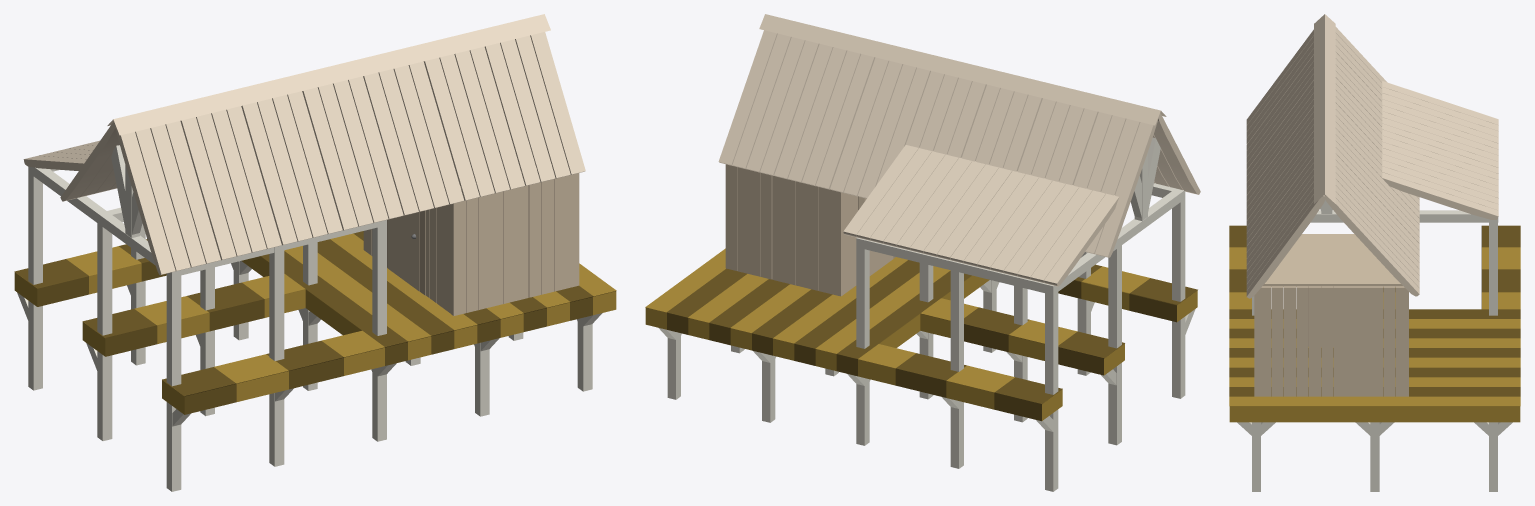
The model's file is BoatHouse.fbx.
The picture shows the model from 3 angles, left to right: view 1: azimuth 30°, elevation 25°; view 2: azimuth 150°, elevation 25°; view 3: azimuth 270°, elevation 25°; orthographic projection. The views are drawn at different scales.
Visible parts, largest first — view 1: DockFloor, pCube155 (×8), pCube302, pCube213, pCube206, pCube200, pCube221, pCube237, pCube229, pCube248, pCube240, pCube197 (+43 smaller); view 2: DockFloor, pCube302, pCube155 (×7), pCube214, pCube228, pCube247, pCube241, pCube246, pCube232, pCube249, pCube245, pCube227 (+56 smaller); view 3: DockFloor, pCube299, pCube302, pCube155 (×3), pCube194, pCube249, pCube288, pCube290, pCube291, pCube292, pCube294, pCube295 (+80 smaller).
Part boxes in pixels (x1,y1,x2,y2): DockFloor: (14,231,616,414); pCube155 (×8): (28,301,592,491); pCube302: (109,14,550,135); pCube213: (115,125,175,275); pCube206: (241,102,297,245); pCube200: (302,87,358,230); pCube221: (180,117,236,260); pCube237: (423,58,479,200); pCube229: (363,72,418,215); pCube248: (484,43,540,185); pCube240: (454,50,509,193); pCube197: (333,80,388,223); DockFloor: (645,248,1197,421); pCube302: (759,14,1165,125); pCube155 (×7): (667,316,1185,491); pCube214: (1095,117,1158,257); pCube228: (816,54,875,189); pCube247: (760,40,819,175); pCube241: (788,47,847,182); pCube246: (732,33,791,169); pCube232: (844,61,903,196); pCube249: (718,30,777,165); pCube245: (746,37,805,172); pCube227: (802,50,860,186); DockFloor: (1229,225,1520,422); pCube299: (1263,234,1402,286); pCube302: (1314,14,1335,203); pCube155 (×3): (1252,422,1497,491); pCube194: (1382,172,1498,219); pCube249: (1324,194,1419,296); pCube288: (1271,286,1283,396); pCube290: (1296,286,1308,396); pCube291: (1370,286,1382,396); pCube292: (1383,286,1395,396); pCube294: (1346,286,1358,396); pCube295: (1333,286,1345,396).
Bounding box in the file's own units: 523 × 385 × 344.
